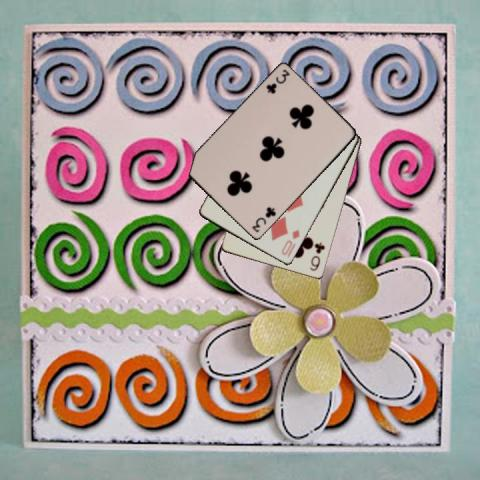10d: (279, 227, 301, 259)
3c: (249, 204, 277, 234), (264, 67, 292, 95)
6c: (306, 239, 327, 273)
